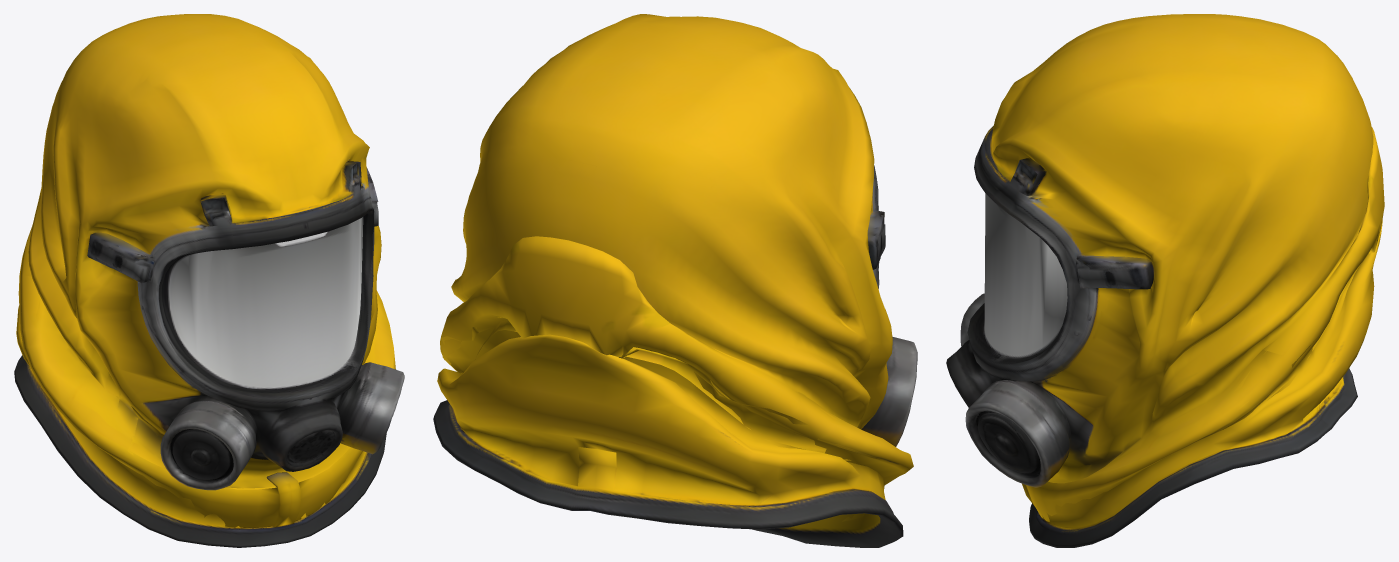
Rendered from HELMET.fbx.
3 views of the same model, side by side, from view 1: azimuth 30°, elevation 25°; view 2: azimuth 150°, elevation 25°; view 3: azimuth 270°, elevation 25° (orthographic). The views are drawn at different scales.
Parts seen in each view (by area): view 1: part_00000001.001; view 2: part_00000001.001; view 3: part_00000001.001.
Boxes of the visible parts, x1,y1,x2,y2 form: part_00000001.001: (14,14,404,547); part_00000001.001: (433,14,917,547); part_00000001.001: (946,14,1384,547).
Bounding box in the file's own units: 31.65 × 39.31 × 32.64.
Materials: 1 (1 with a texture image).
